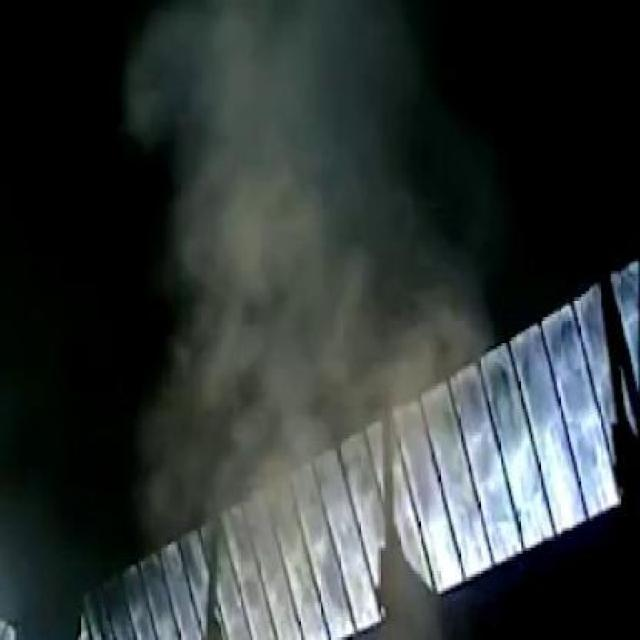fire: (151, 0, 487, 640)
